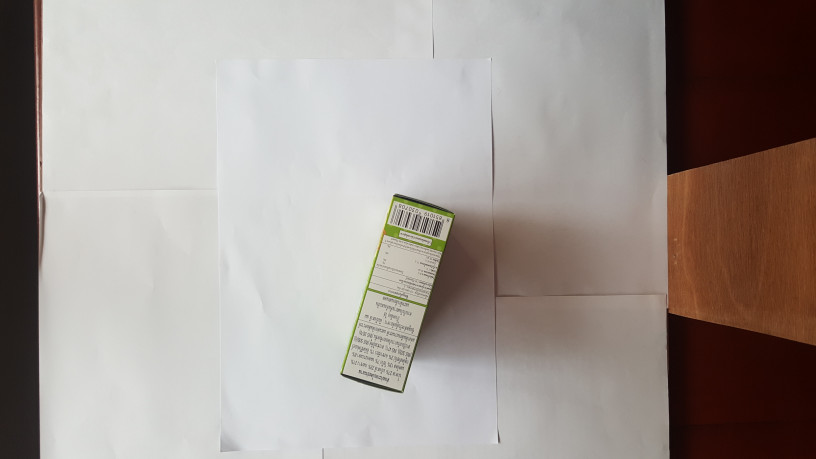collon-matcha: (338, 193, 458, 396)
